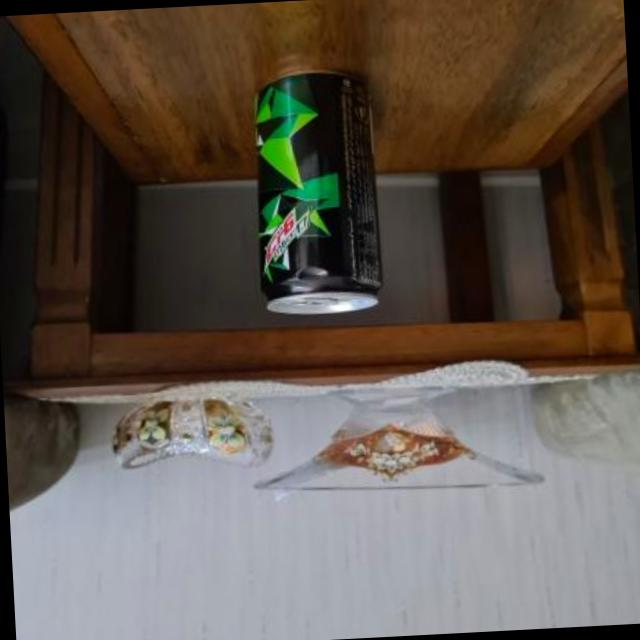metal: (259, 77, 384, 316)
